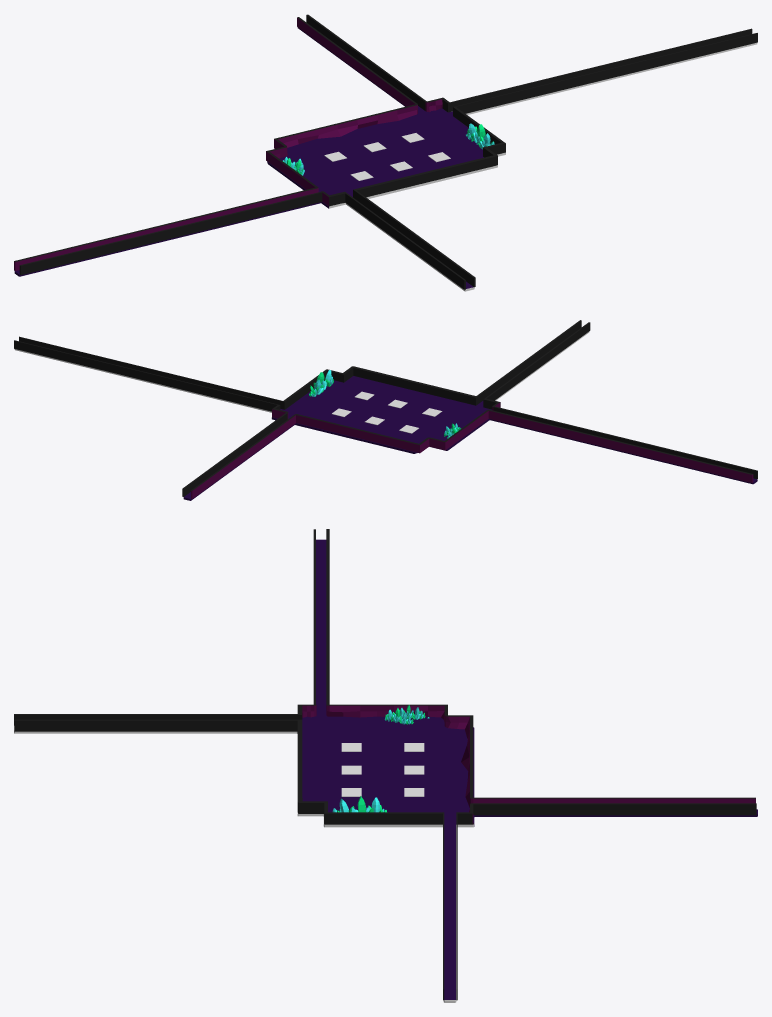
File: sala5DET.fbx
3 renders of one model, top to bottom at view 1: azimuth 30°, elevation 25°; view 2: azimuth 150°, elevation 25°; view 3: azimuth 270°, elevation 25°, orthographic. The views are drawn at different scales.
Visible parts, largest first — view 1: paredes_der_abajo5, suelo5, paredes_izq_arriba5, conjunto_trampas, conjunto_cristales; view 2: paredes_der_abajo5, suelo5, paredes_izq_arriba5, conjunto_trampas, conjunto_cristales; view 3: suelo5, paredes_der_abajo5, paredes_izq_arriba5, conjunto_trampas, conjunto_cristales.
Part boxes in pixels (x1,y1,x2,y2): paredes_der_abajo5: (19,14,757,289); suelo5: (14,27,757,291); paredes_izq_arriba5: (14,17,444,270); conjunto_trampas: (324,133,450,180); conjunto_cristales: (283,123,494,175); paredes_der_abajo5: (14,320,757,496); suelo5: (14,332,757,500); paredes_izq_arriba5: (191,401,753,498); conjunto_trampas: (332,391,442,433); conjunto_cristales: (309,370,460,438); suelo5: (14,539,757,1002); paredes_der_abajo5: (14,529,756,1000); paredes_izq_arriba5: (298,529,755,824); conjunto_trampas: (341,743,424,796); conjunto_cristales: (332,705,429,812).
Bounding box in the file's own units: 32512 × 849 × 22196.
